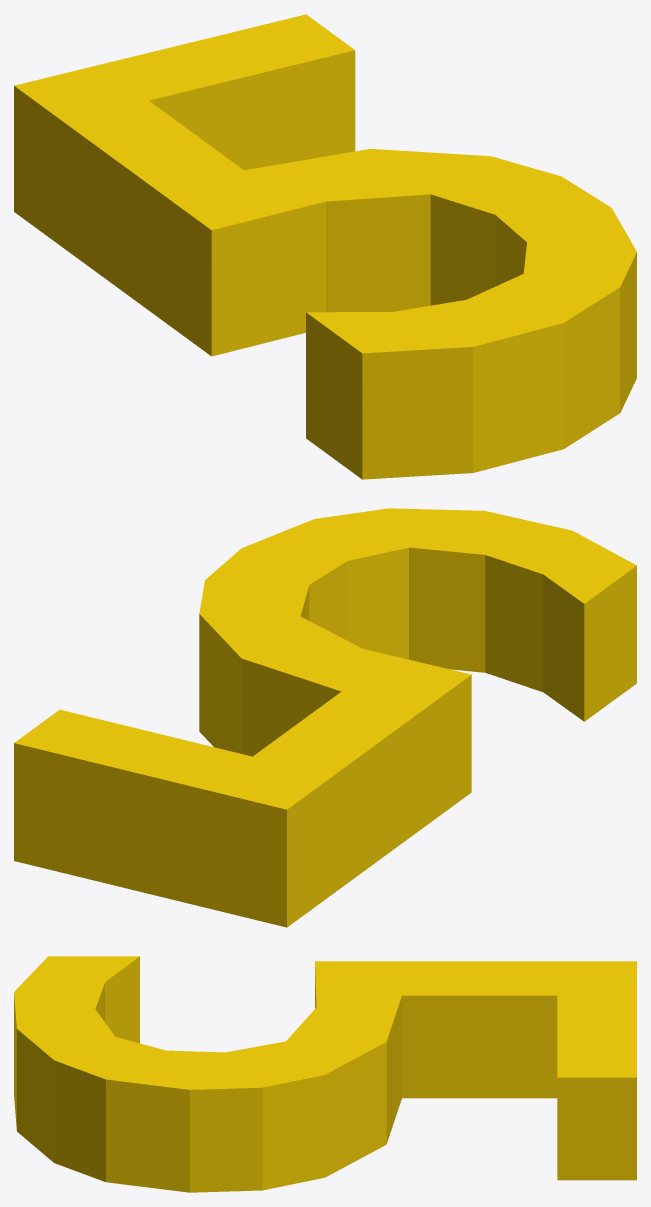
Rendered from five.glb.
The picture shows the model from 3 angles, top to bottom: view 1: azimuth 30°, elevation 25°; view 2: azimuth 150°, elevation 25°; view 3: azimuth 270°, elevation 25°; orthographic projection. The views are drawn at different scales.
Parts seen in each view (by area): view 1: Text.005; view 2: Text.005; view 3: Text.005.
Boxes of the visible parts, x1,y1,x2,y2 form: Text.005: (14,14,636,479); Text.005: (14,508,636,927); Text.005: (14,956,636,1192).
Size of the model in its own units: 0.2789 by 0.1 by 0.5494.
Materials: 1 (1 with a texture image).
